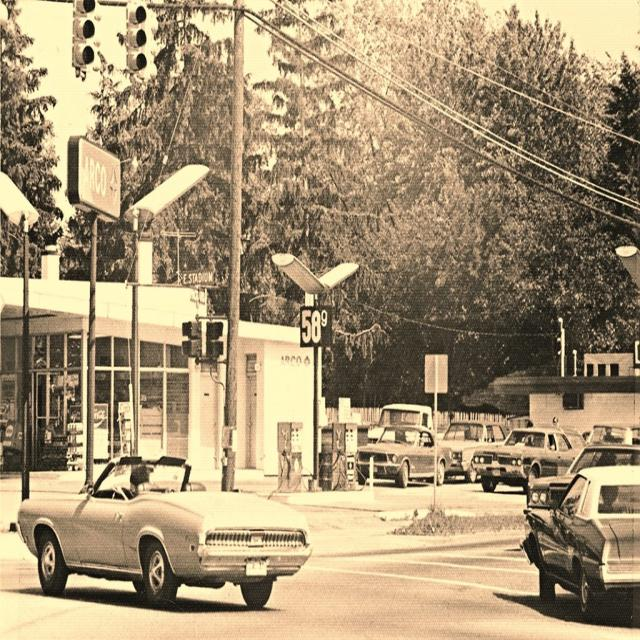car: (15, 451, 312, 606)
